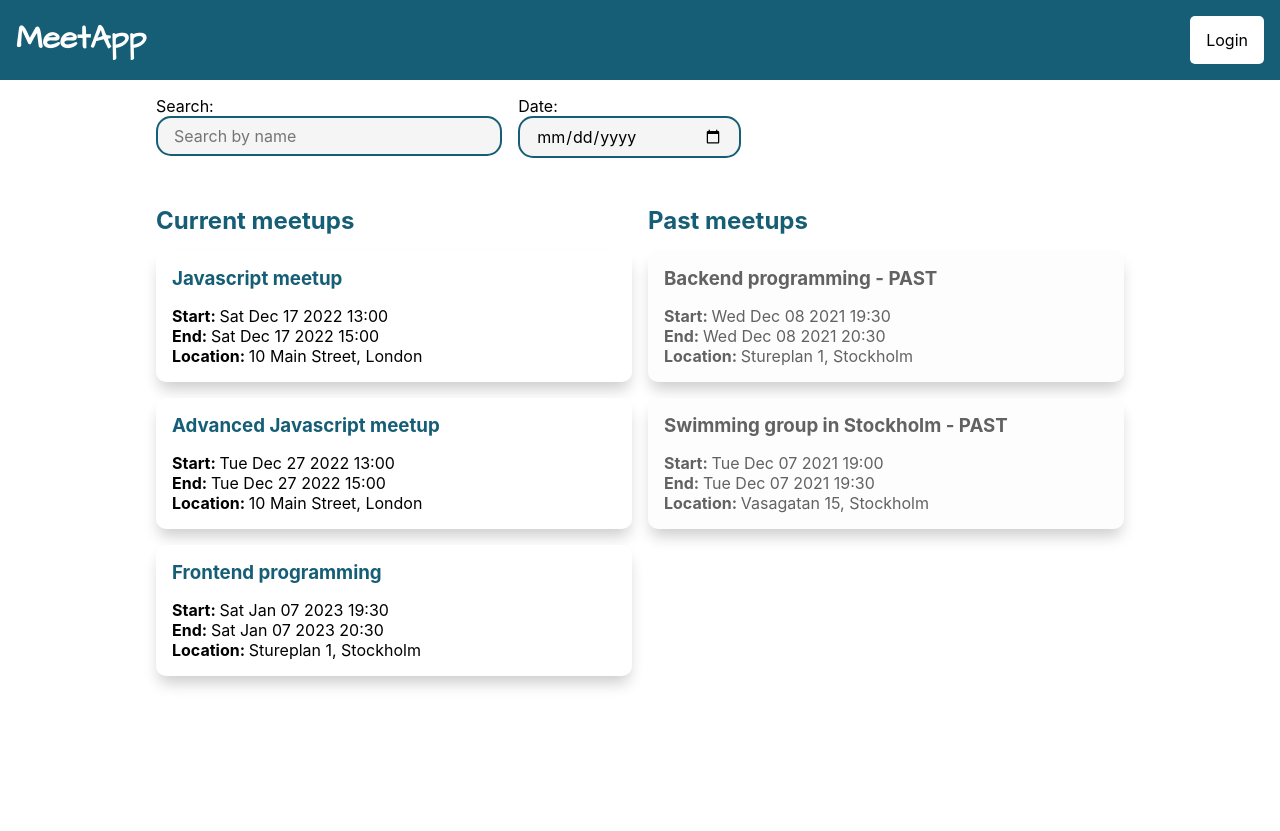
App integration tests - registering for events › adds attendee to list of attendees when attend button is clicked
Click the button "Login". click: [1227, 40]
box: [1190,16,1264,64]
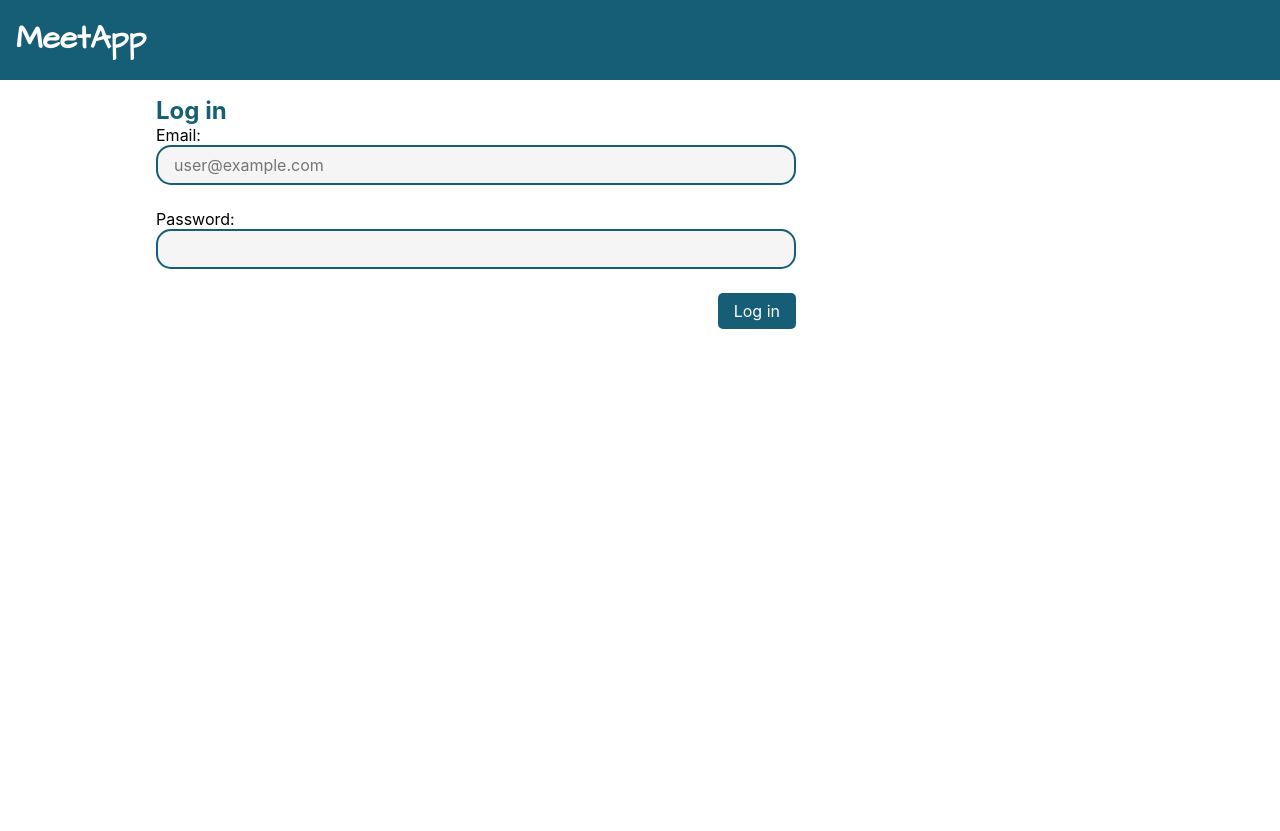
Type "sofie@gmail.com" into the field labelled "Email:". click: [476, 165]
box: [156,145,796,185]
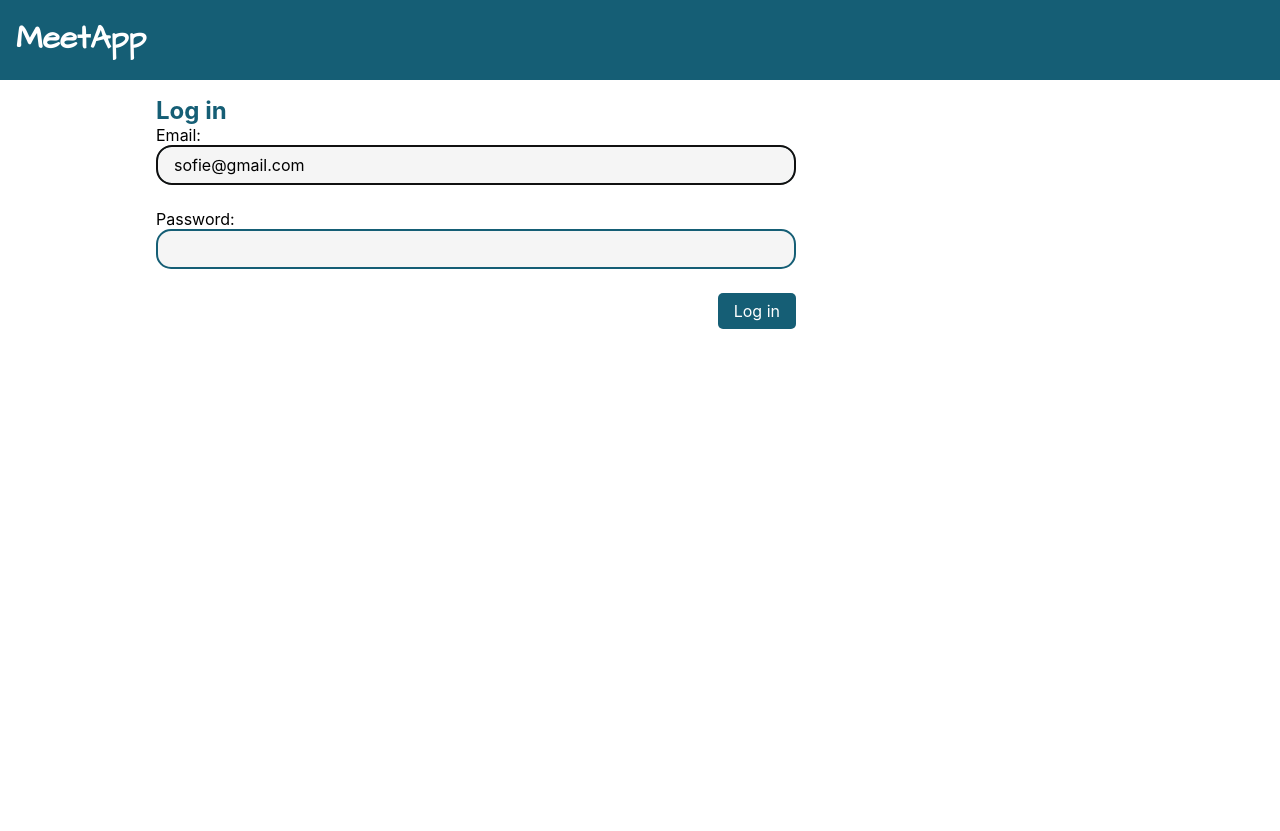
Type "sofieIsBest" into the password field labelled "Password:". click: [476, 249]
box: [156,229,796,269]
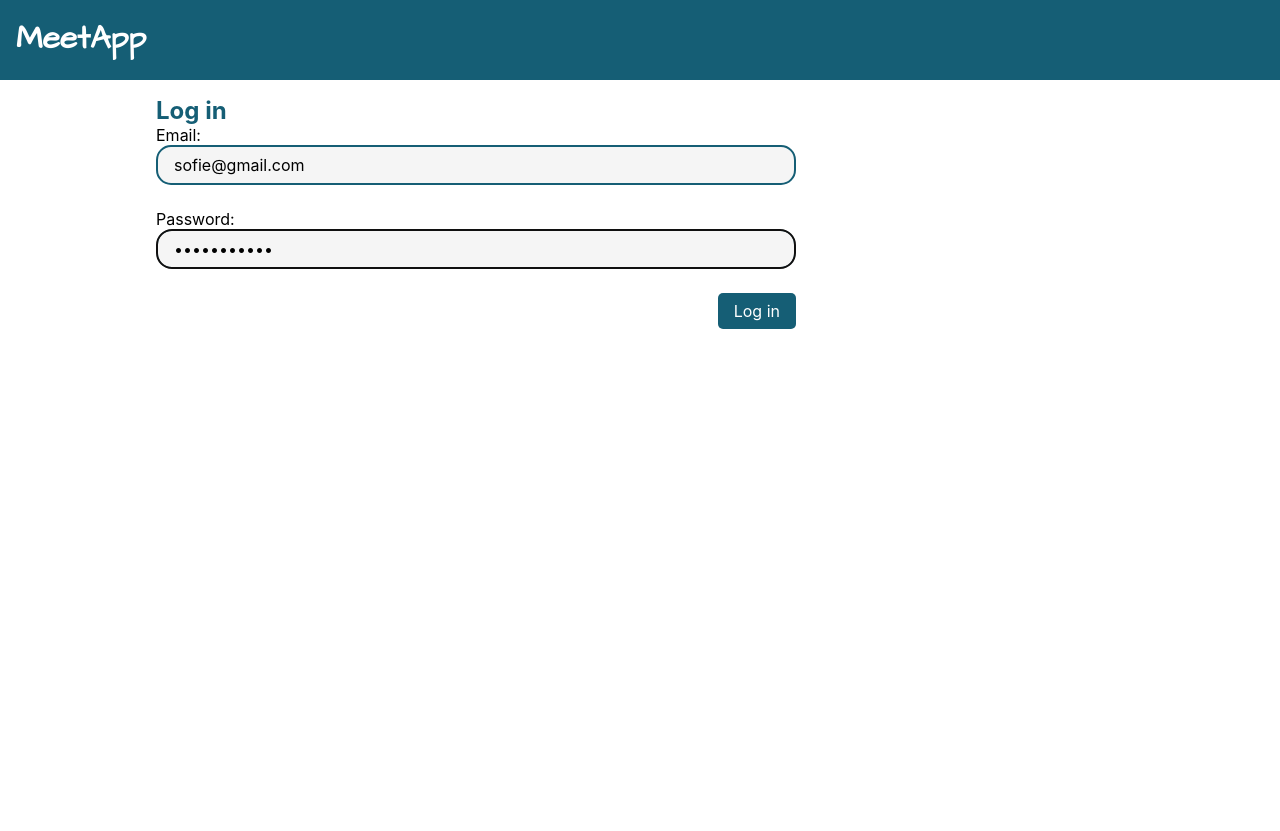
Click the button with test id "login-btn". click: [757, 311]
box: [718,293,796,329]
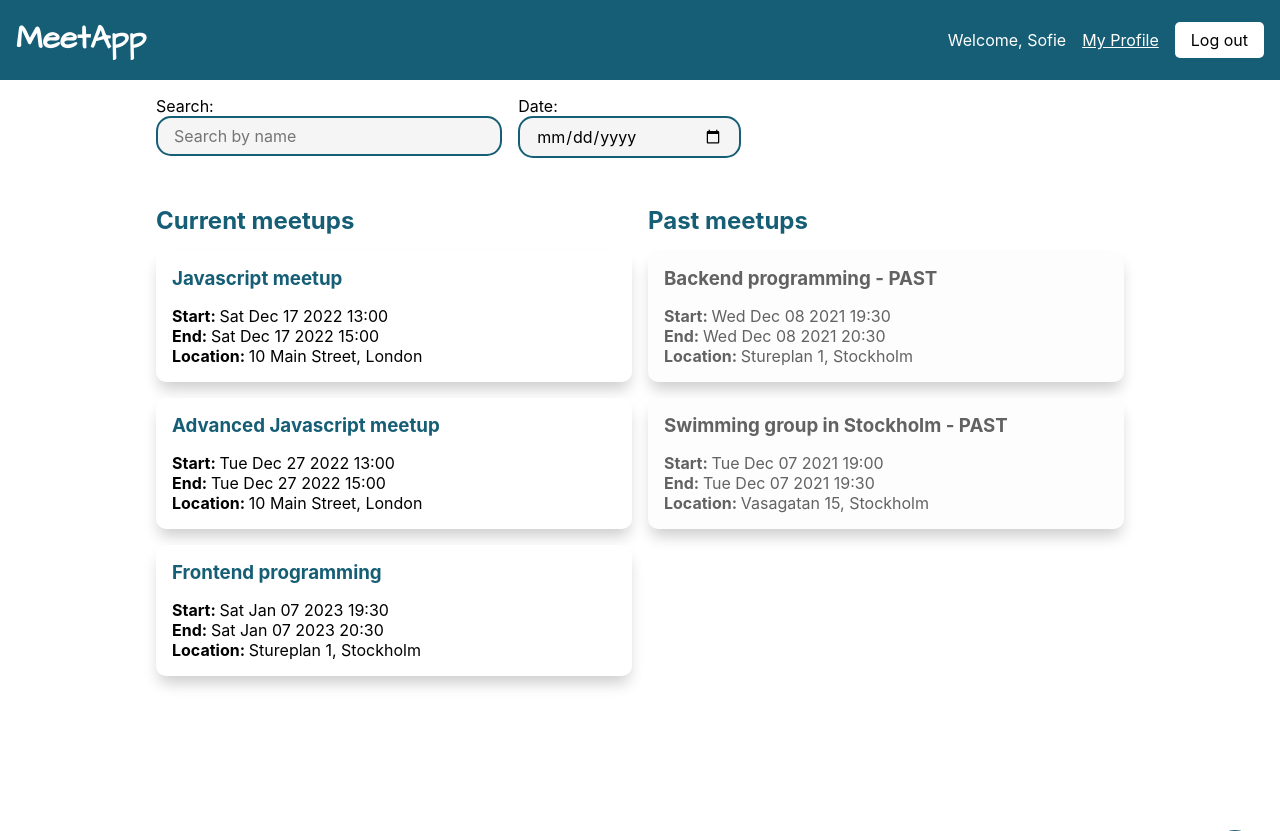
Click the link with test id "currentListItem". click: [394, 316]
box: [156,251,632,382]
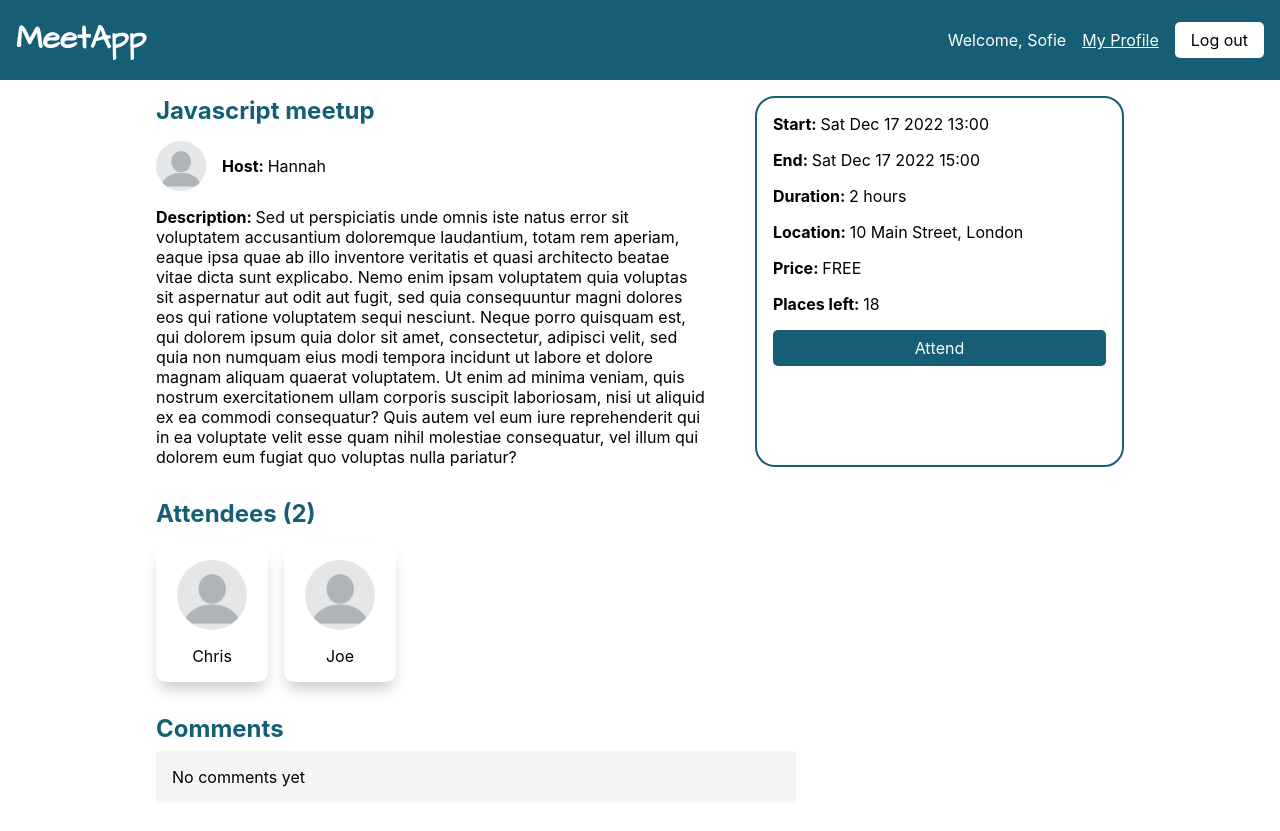
Now the number of elements with test id "userCard" is 2, box [156,544,268,682]; [284,544,396,682]
Click the button "Attend". click: [939, 348]
box: [773,330,1106,366]
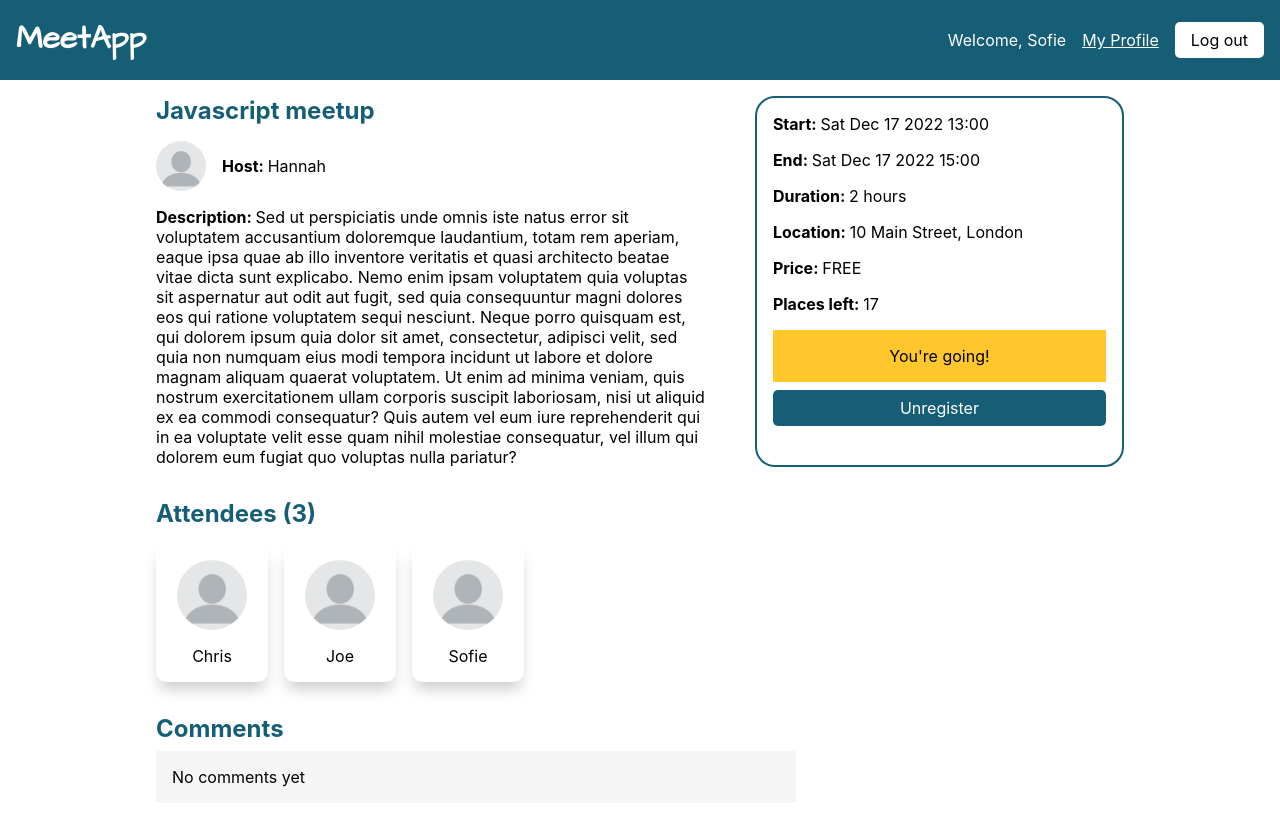
Now the number of elements with test id "userCard" is 3, box [156,544,268,682]; [284,544,396,682]; [412,544,524,682]
